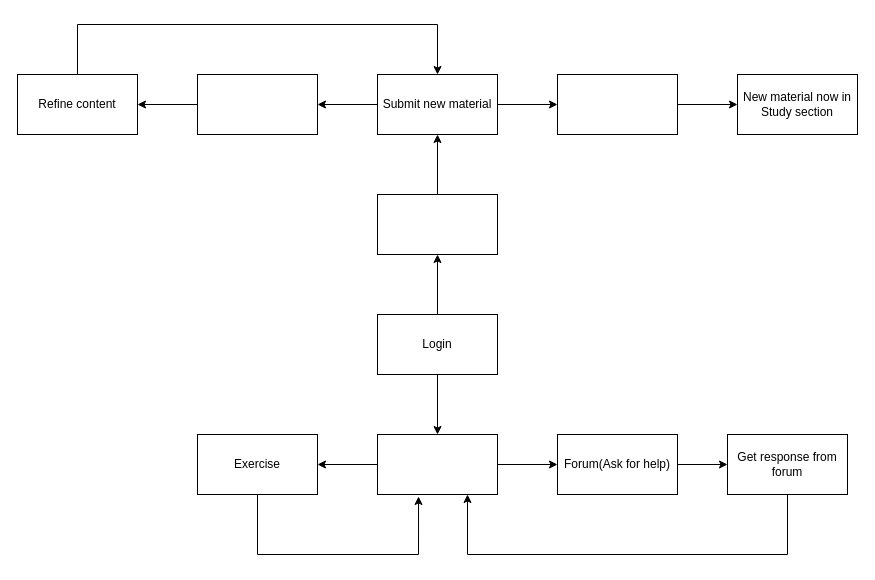
This 875x580 diagram has some shape labels left out. The box of each missing label's shape, as (x1, y1, x2, y2) in pixels:
Someone needs help in the forum: (376, 194, 498, 254)
Study: (376, 434, 498, 494)
Submission approved by admin: (556, 74, 678, 134)
Submission not approved by admin: (196, 74, 318, 134)
